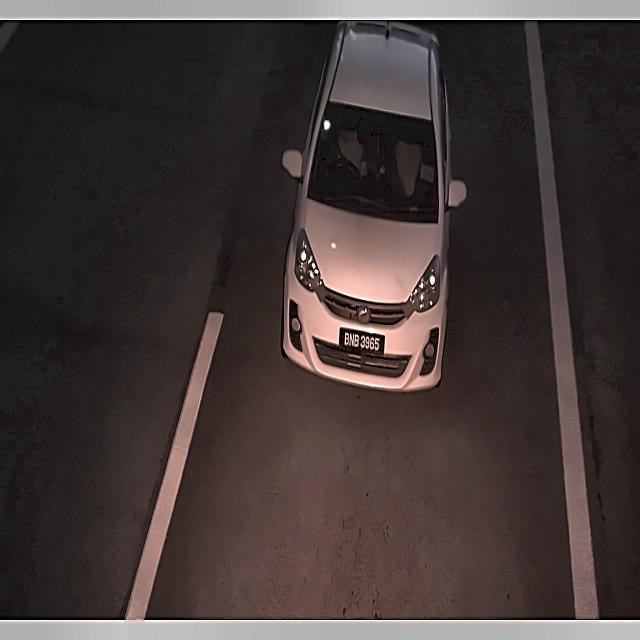car: (334, 325, 396, 363)
